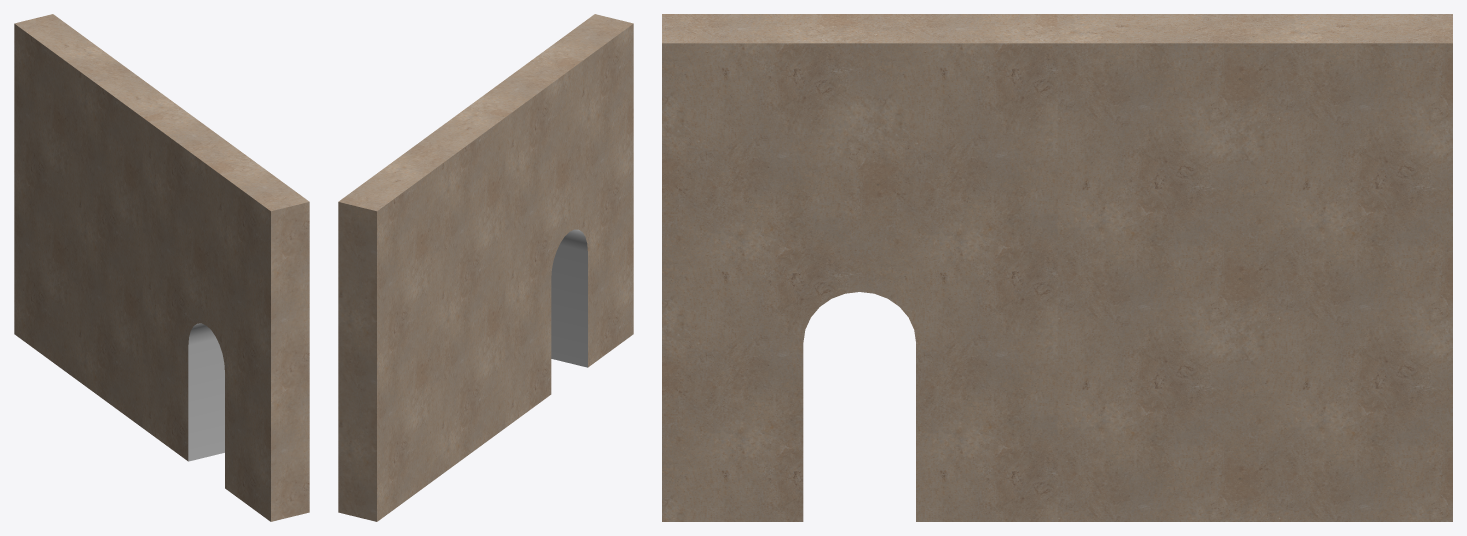
File: Atrium_Walls.fbx
The picture shows the model from 3 angles, left to right: view 1: azimuth 30°, elevation 25°; view 2: azimuth 150°, elevation 25°; view 3: azimuth 270°, elevation 25°; orthographic projection. The views are drawn at different scales.
Parts seen in each view (by area): view 1: Wall_1_Door_Hole, Wall_1; view 2: Wall_1, Wall_1_Door_Hole; view 3: Wall_1, Wall_1_Door_Hole.
Boxes of the visible parts, <box> form: Wall_1_Door_Hole: <box>142,108,309,521</box>; Wall_1: <box>14,14,180,427</box>; Wall_1: <box>338,108,505,521</box>; Wall_1_Door_Hole: <box>467,14,633,427</box>; Wall_1: <box>1057,14,1452,521</box>; Wall_1_Door_Hole: <box>662,14,1057,521</box>.
Bounding box in the file's own units: 69.98 × 534 × 800.
